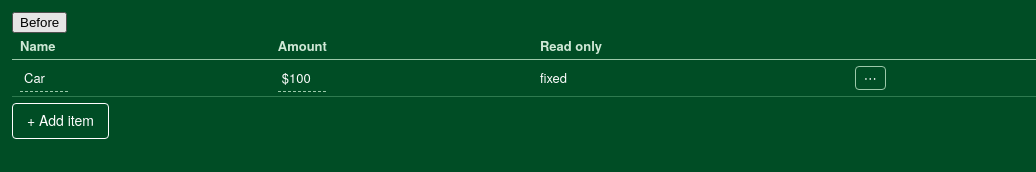
Test: EditableTable › commits an edit on Enter and returns focus to the cell
The image size is (1036, 172).
Step 1. Click the button named "Amount for Car" → (302, 78), box [278, 64, 326, 92]
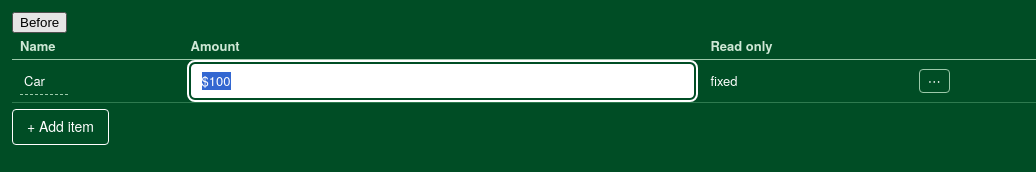
Step 2. Replace the text in the field named "Edit amount of Car" with "250" → (442, 81), box [202, 72, 683, 90]
Then press Enter
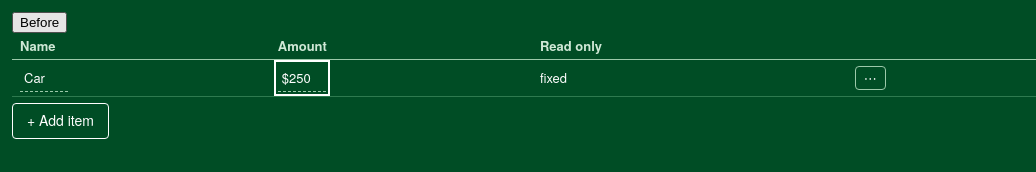
Check: the button named "Amount for Car" reads "$250", box [278, 64, 326, 92]
